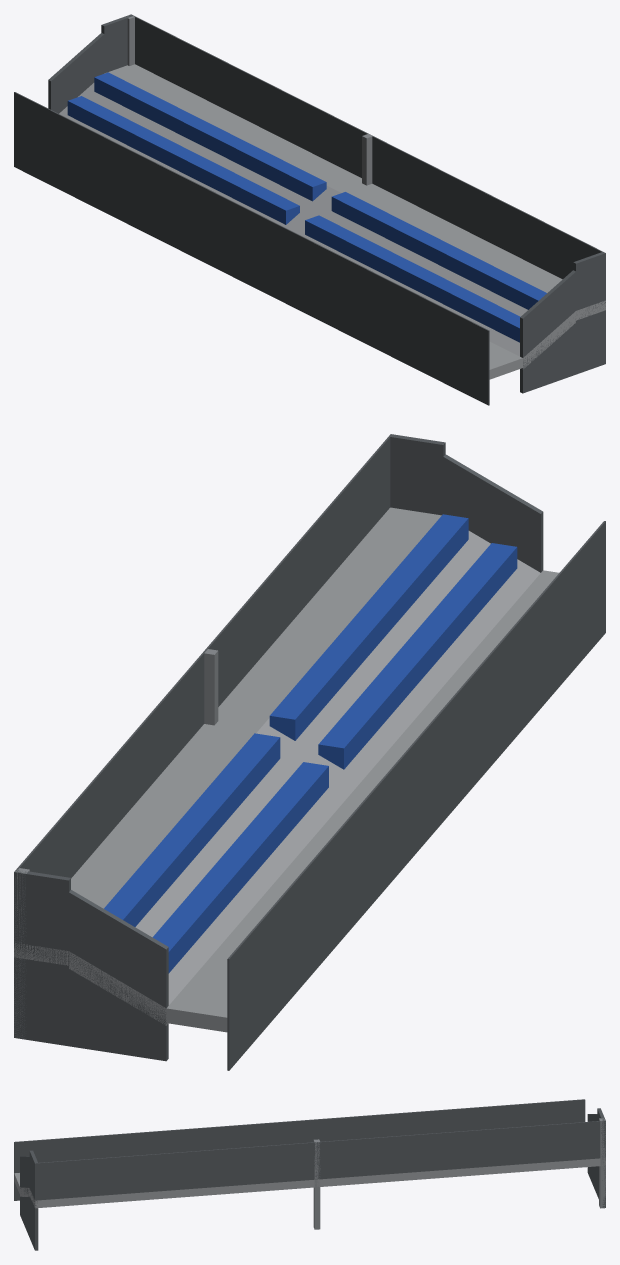
File: mza_stand_trib_p06.glb
The picture shows the model from 3 angles, top to bottom: view 1: azimuth 30°, elevation 25°; view 2: azimuth 150°, elevation 25°; view 3: azimuth 270°, elevation 25°; orthographic projection. The views are drawn at different scales.
Visible parts, largest first — view 1: monza-trib-p06; view 2: monza-trib-p06; view 3: monza-trib-p06.
Boxes of the visible parts, x1,y1,x2,y2 form: monza-trib-p06: (14,14,605,405); monza-trib-p06: (14,434,605,1070); monza-trib-p06: (14,1099,605,1250).
Bounding box in the file's own units: 6.44 × 2.82 × 17.35.
